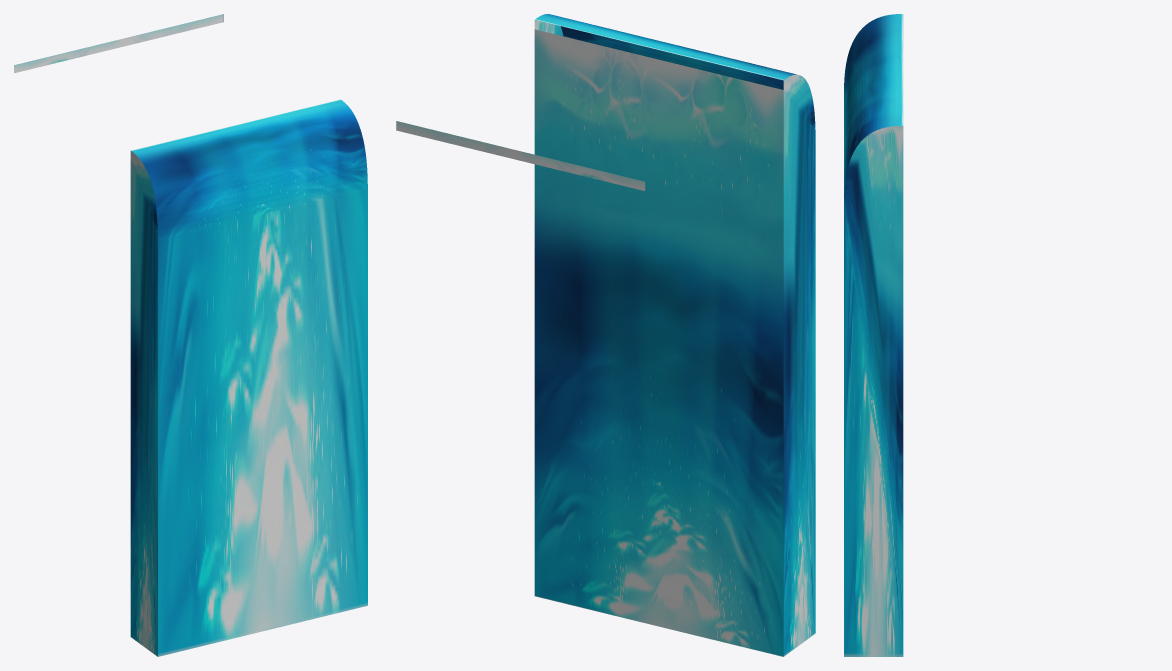
The model's file is thác.obj.
3 renders of one model, left to right at view 1: azimuth 30°, elevation 25°; view 2: azimuth 150°, elevation 25°; view 3: azimuth 270°, elevation 25°, orthographic. The views are drawn at different scales.
Parts seen in each view (by area): view 1: Box010; view 2: Box010; view 3: Box010.
Boxes of the visible parts, left/top/right/bottom form: Box010: left=14, top=14, right=367, bottom=656; Box010: left=396, top=14, right=815, bottom=656; Box010: left=844, top=14, right=903, bottom=656.
Bounding box in the file's own units: 5 × 11.07 × 5.93.
